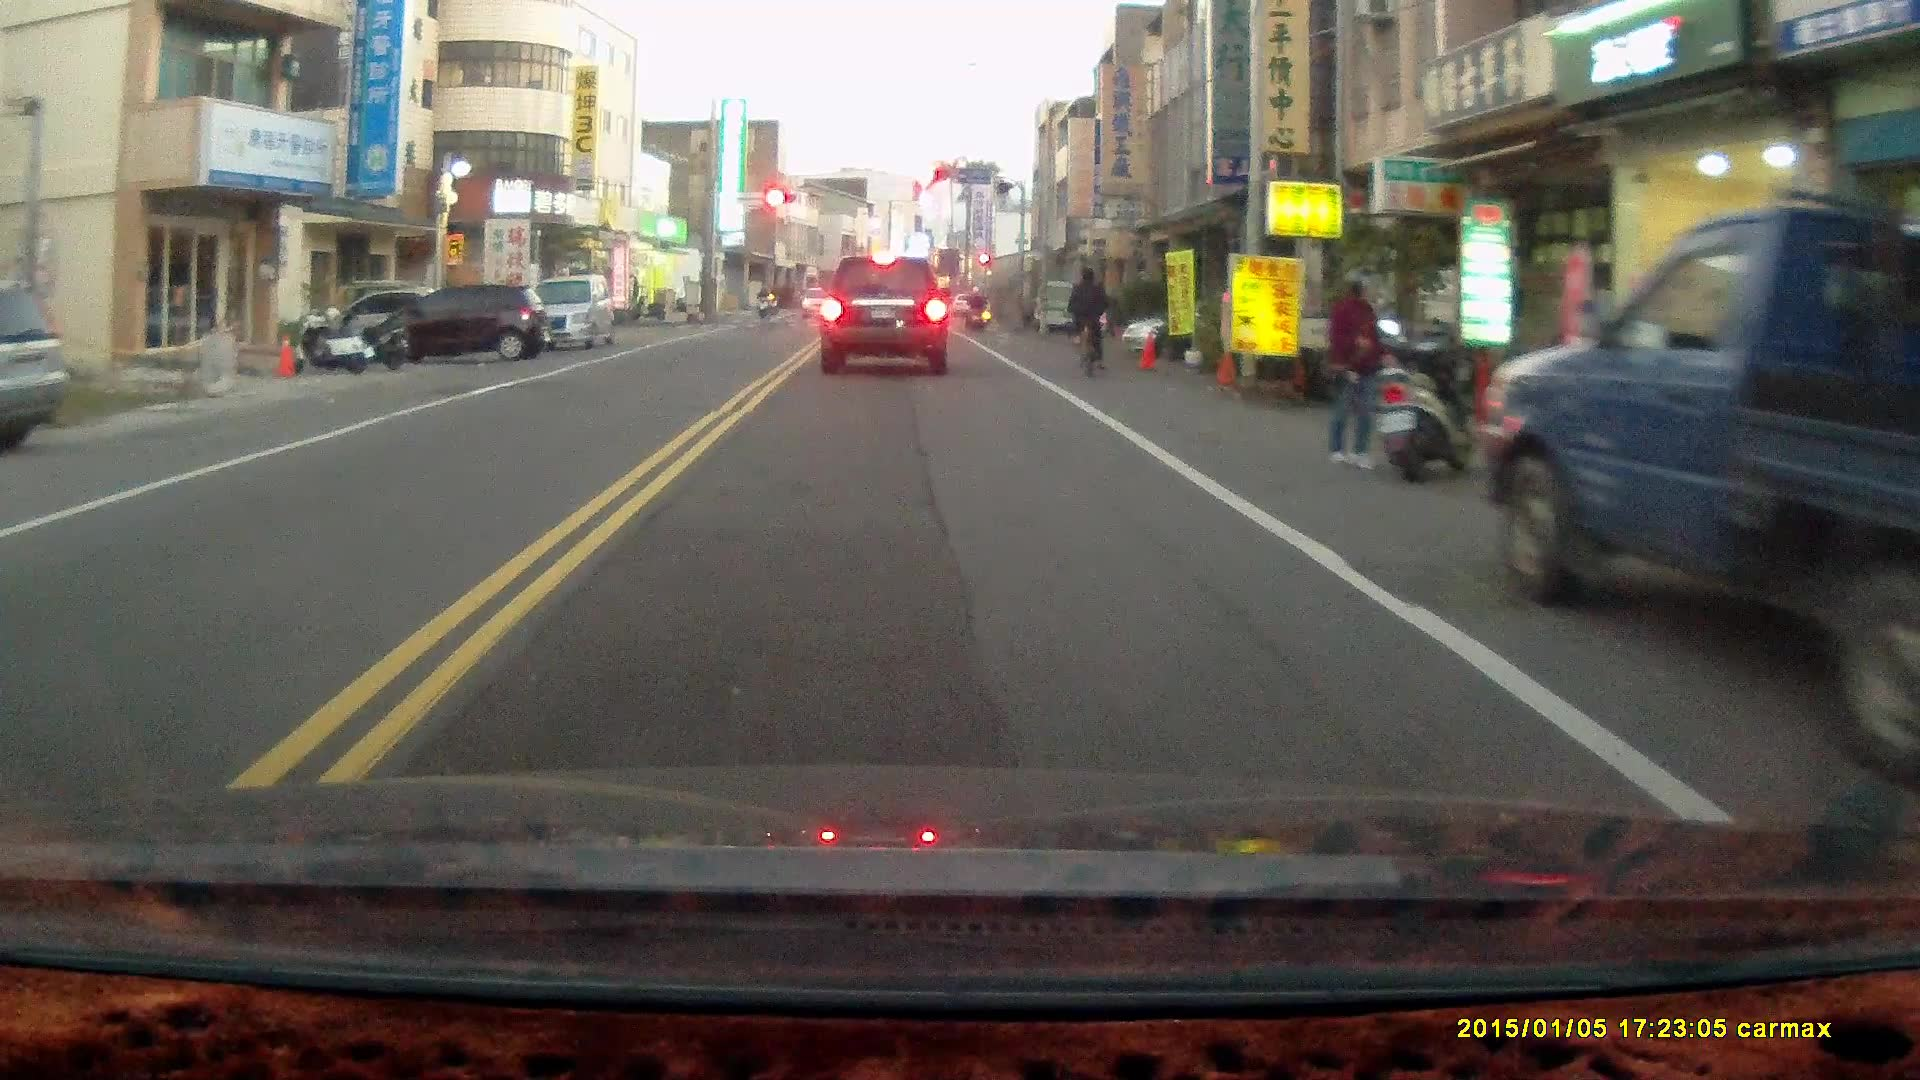pedestrian: (1329, 279, 1386, 469)
rider: (1066, 265, 1110, 375), (964, 283, 986, 333), (754, 286, 774, 319)
vehicle: (1479, 196, 1920, 720), (818, 257, 955, 377), (376, 282, 554, 370), (0, 277, 73, 454), (512, 274, 620, 358)
